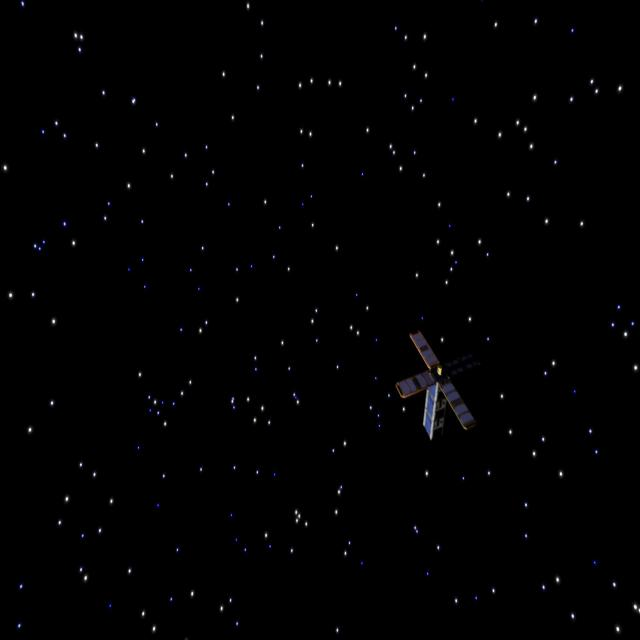satellite: (396, 318, 486, 441)
